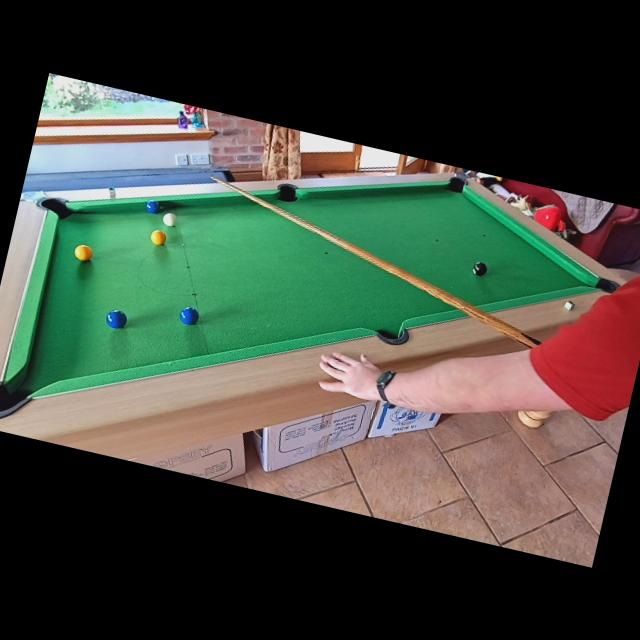Ball: (102, 308, 128, 330), (177, 304, 200, 327), (73, 243, 94, 263), (149, 228, 168, 246), (160, 211, 178, 228), (144, 198, 161, 215), (471, 260, 488, 277)
